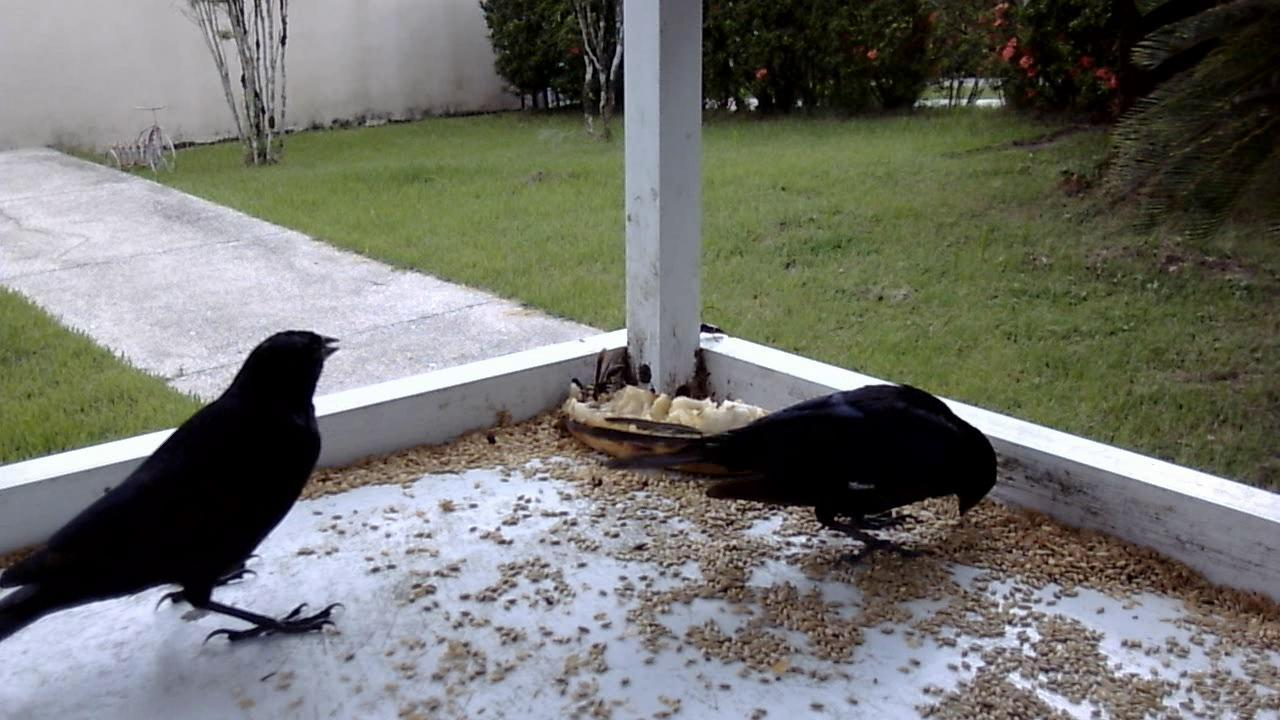chupim: (3, 318, 359, 677), (576, 374, 1004, 565)
